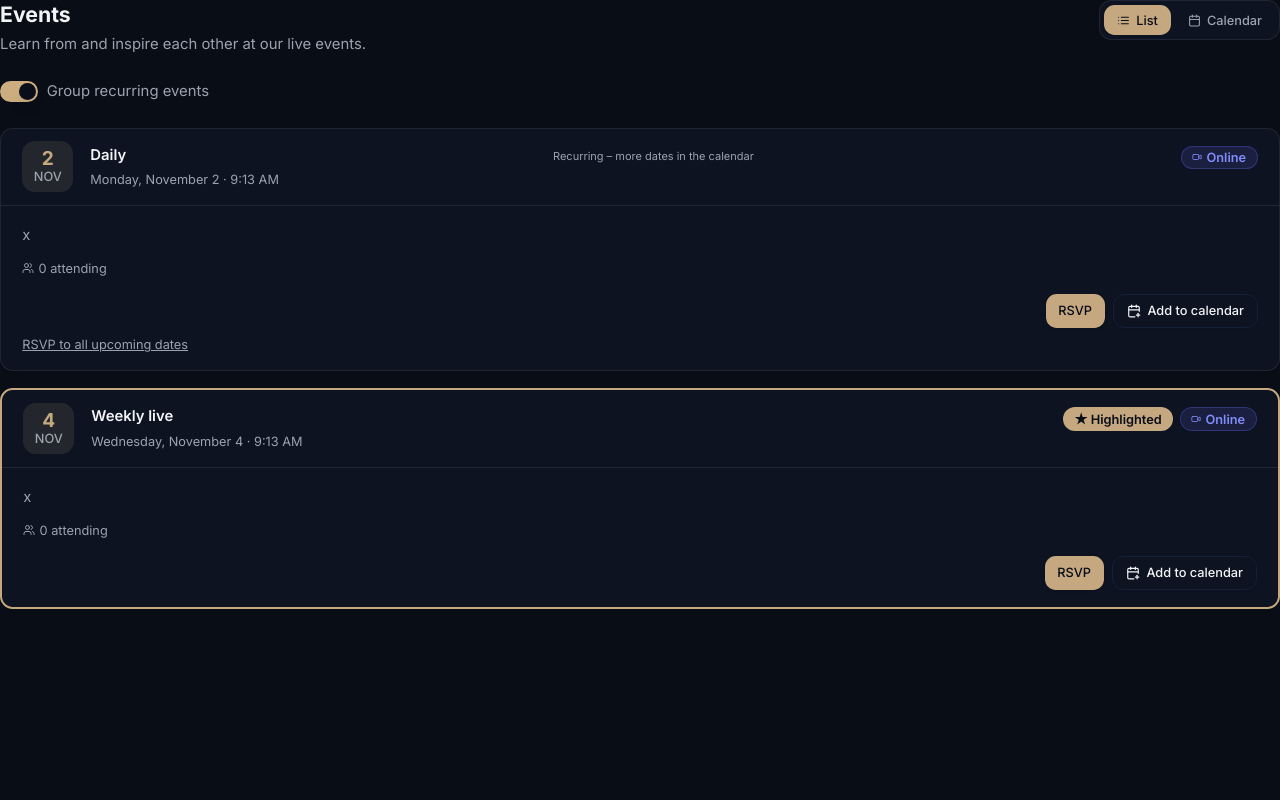
Test: EventsPage series and highlights › shows a daily series once by default, all dates on request, and marks highlighted events
Expected: the heading "Weekly live" is shown, [91,408,173,426]
Expected: the number of headings "Daily" is 1, [90,146,126,164]
Click the switch: (19, 91) [0,81,38,102]
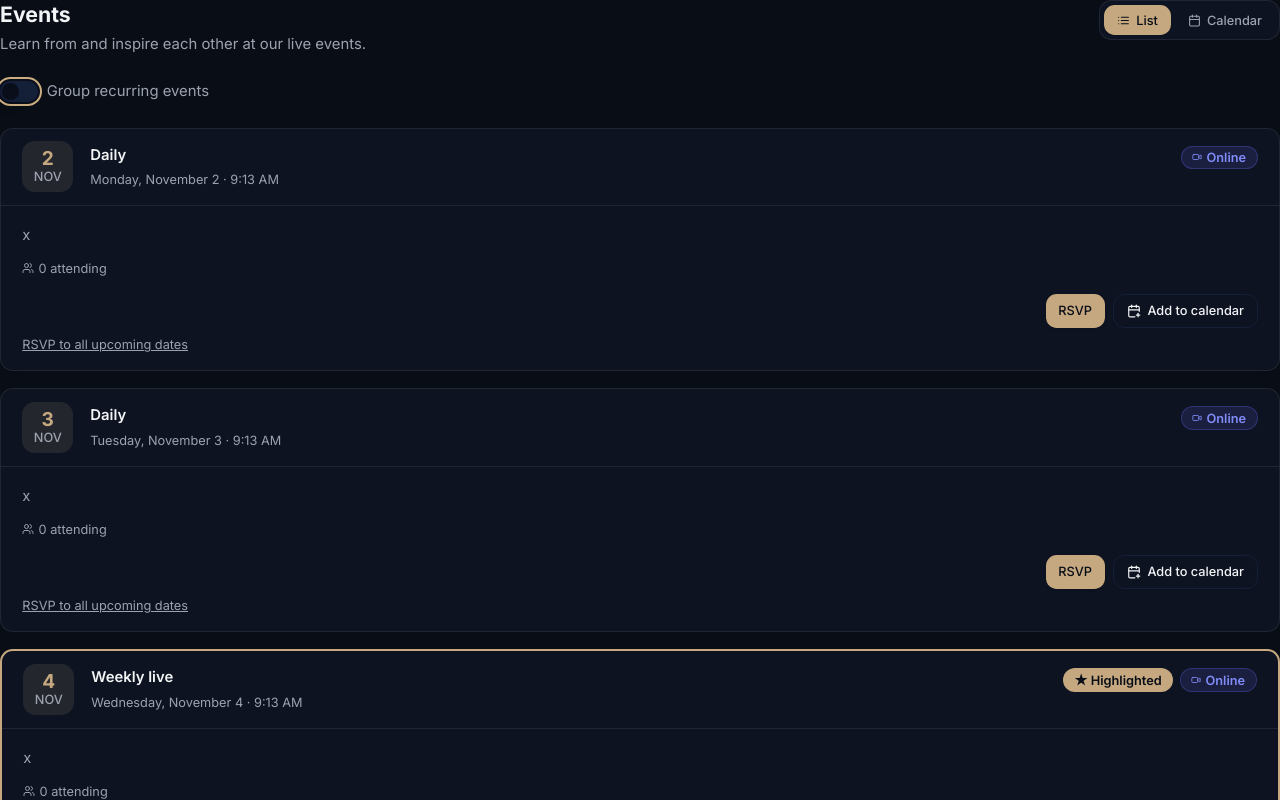
Expected: the number of headings "Daily" is 2, [90,146,126,164]; [90,406,126,425]
